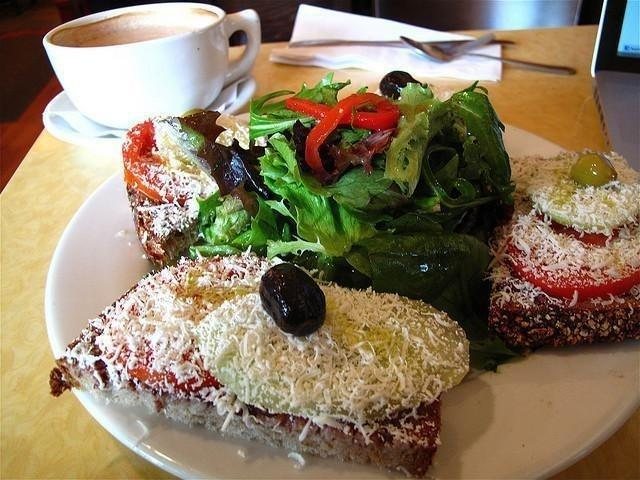cup-handle: (41, 3, 262, 131)
